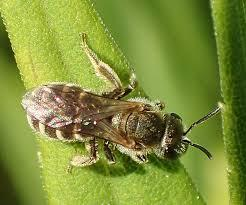Seladonia: (23, 65, 214, 171)
